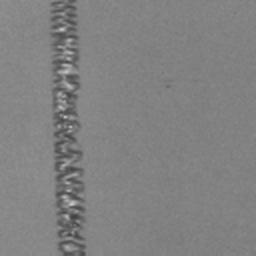Slag inclusion: (50, 0, 86, 256)
